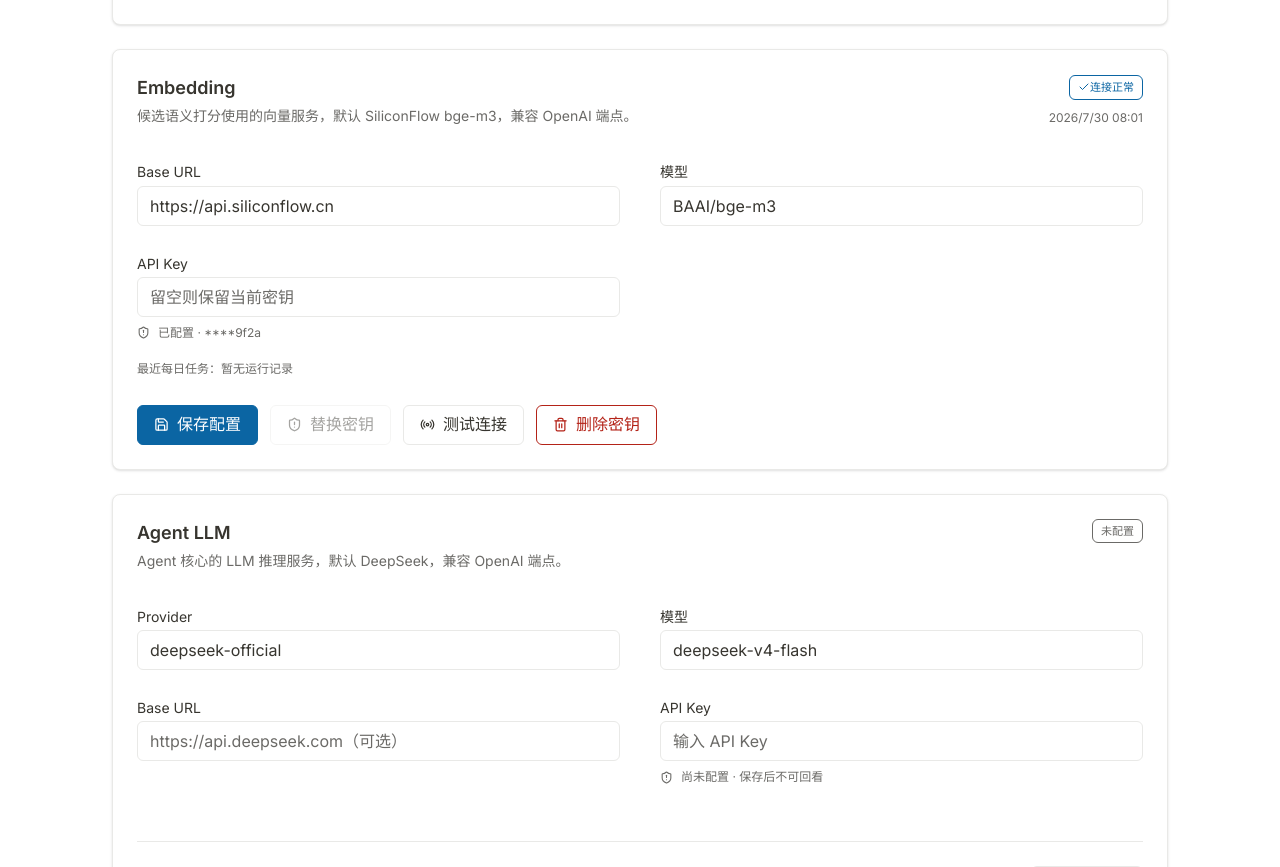
Test case: IntegrationsPage › moves focus to the stable save action after successful secret deletion
(page scrolled)
Click the button with aria-label "删除Embedding密钥" at (596, 425), box [536,405,657,445]
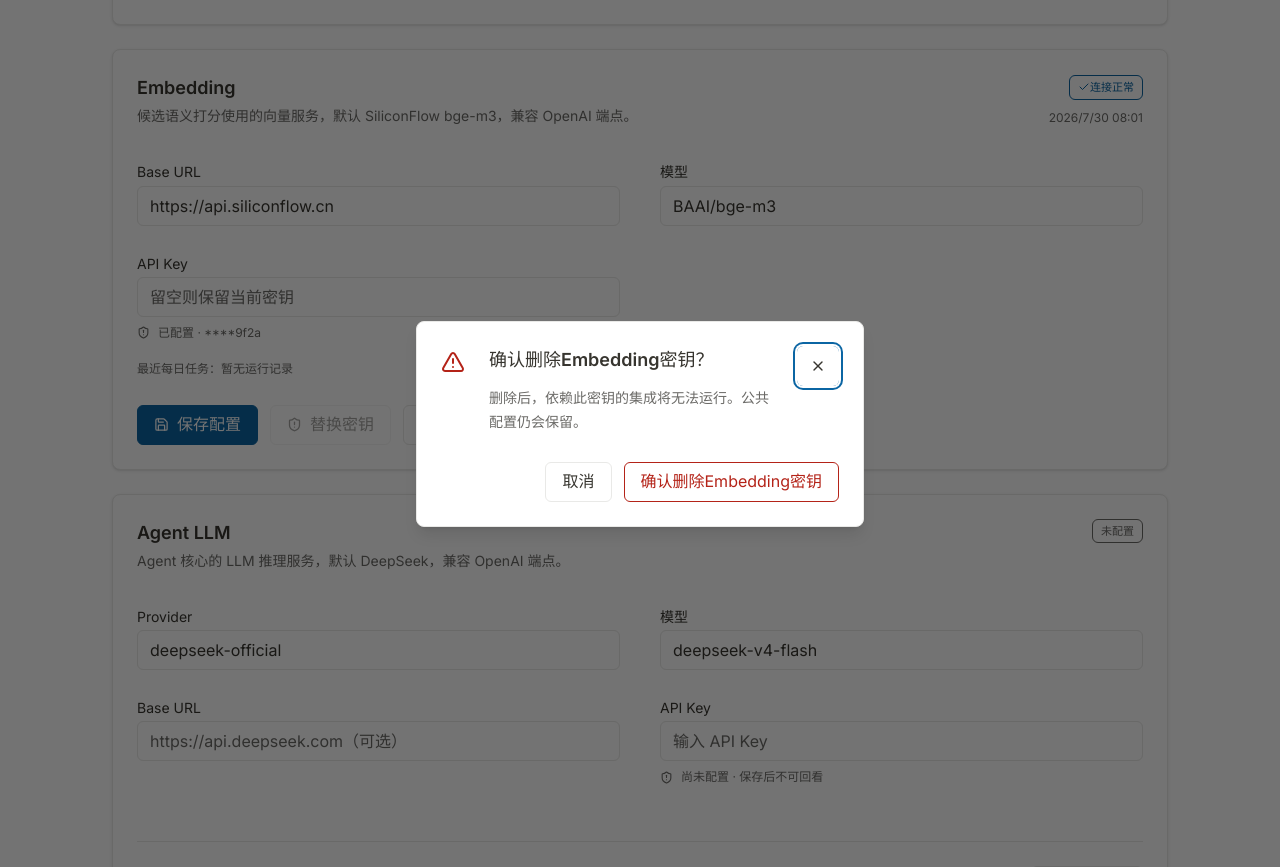
Click the button "确认删除Embedding密钥" at (731, 482), box [624,462,839,502]
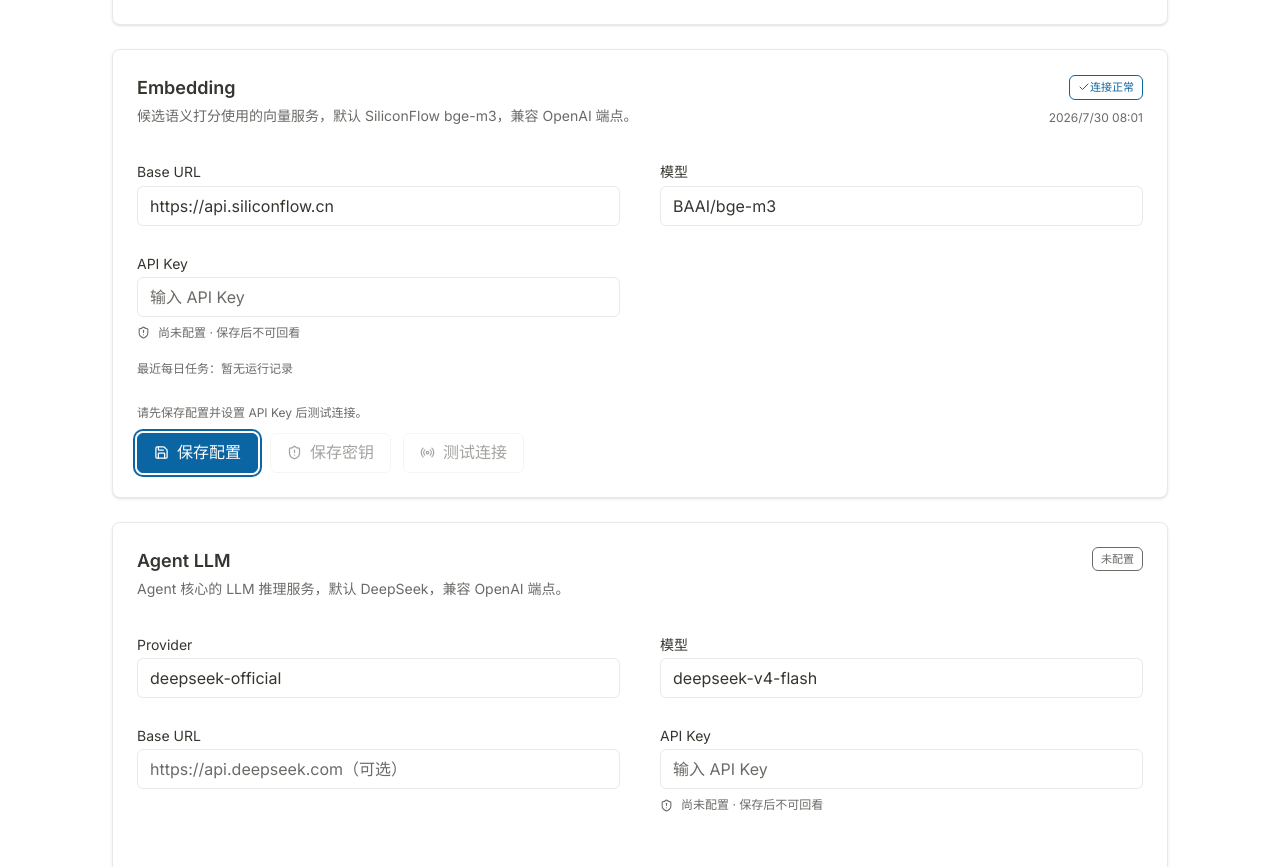
Result: the heading "删除Embedding密钥" is gone
